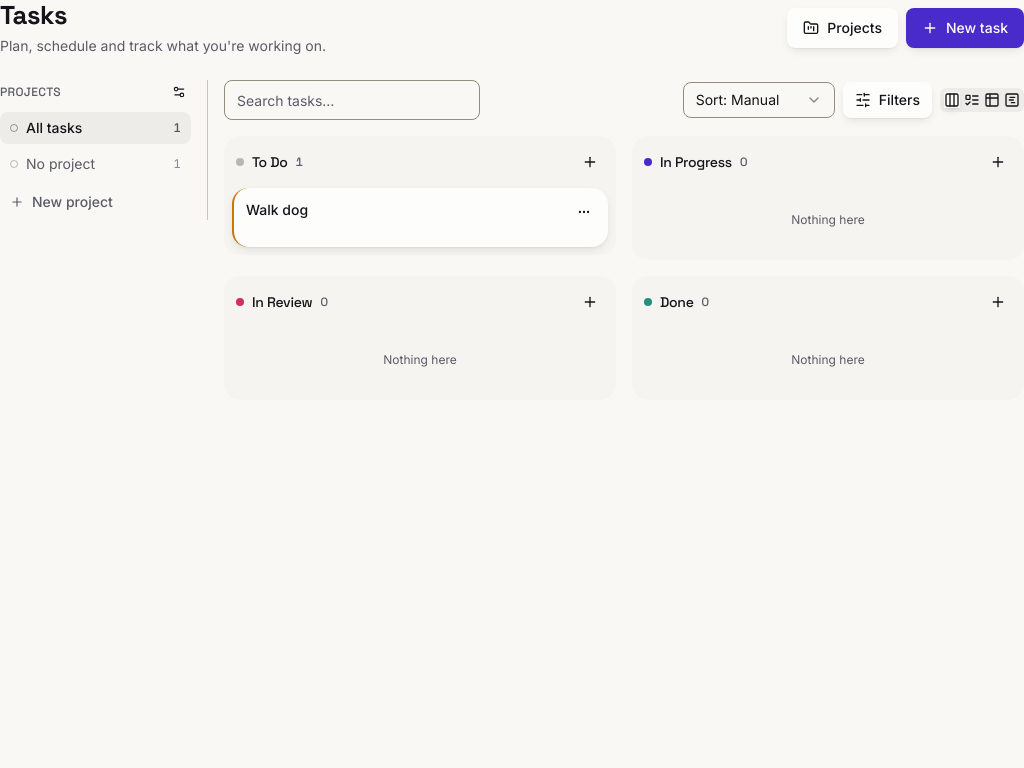
view before edit › shows the form once Edit is pressed
Click the button labelled "Walk dog". click: click(277, 210)
box: [232, 188, 608, 247]
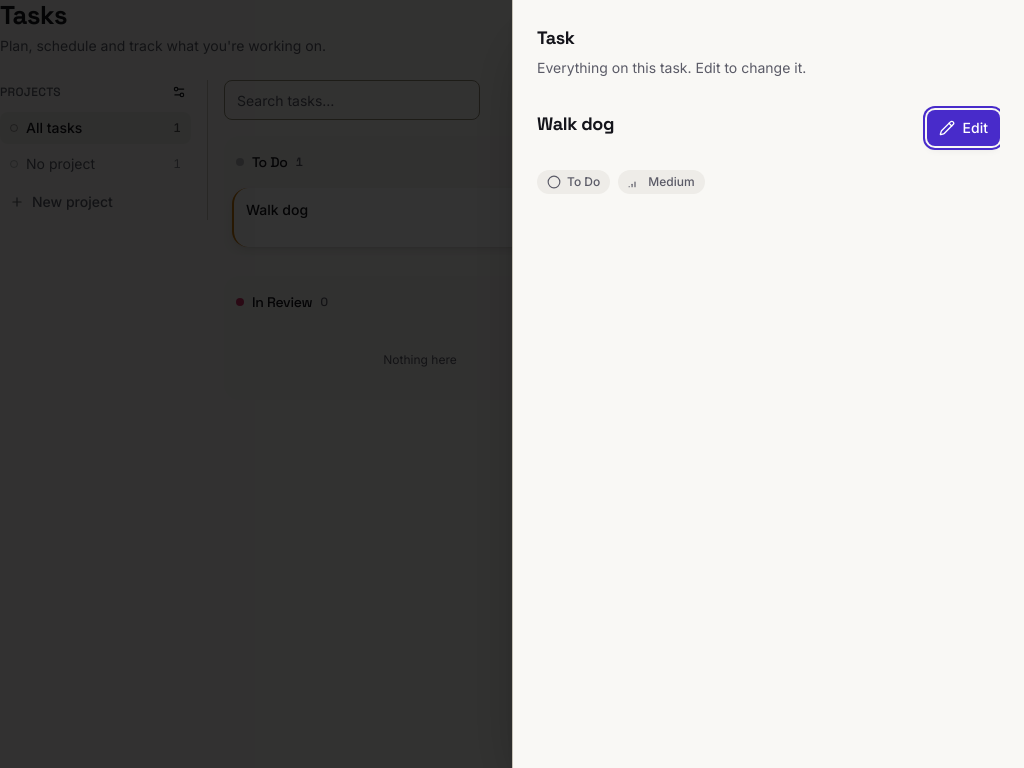
Click the button "Edit". click: click(963, 128)
box: [927, 110, 1000, 146]
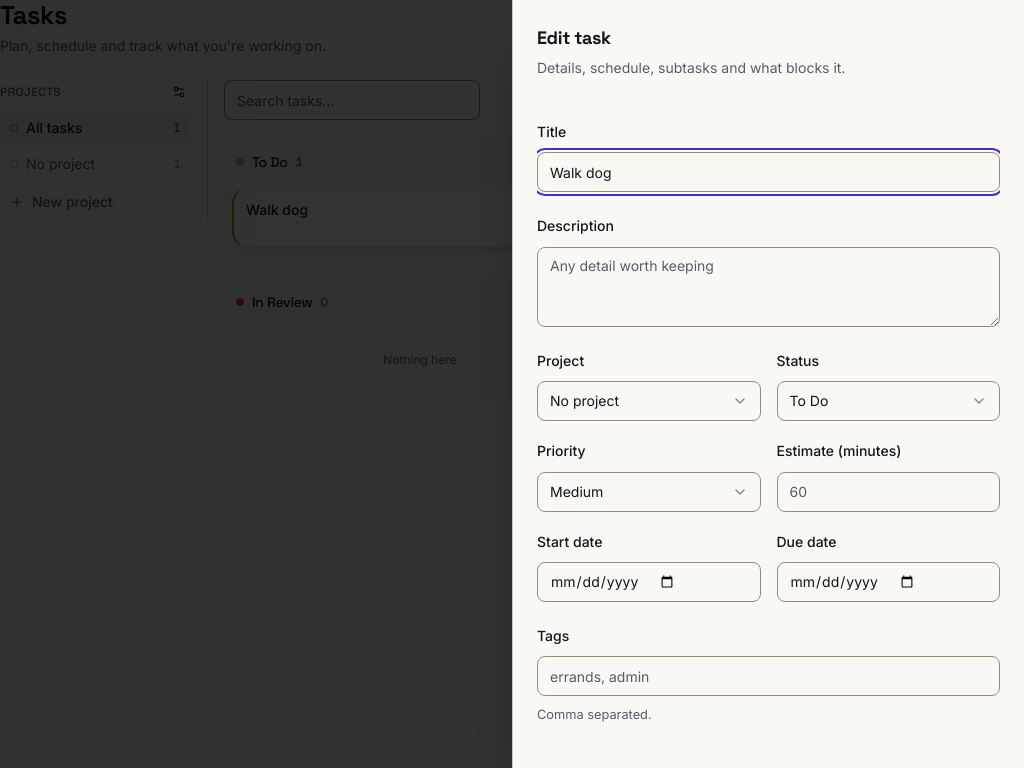
Now the field labelled "Title" is shown, box [537, 152, 1000, 192]
